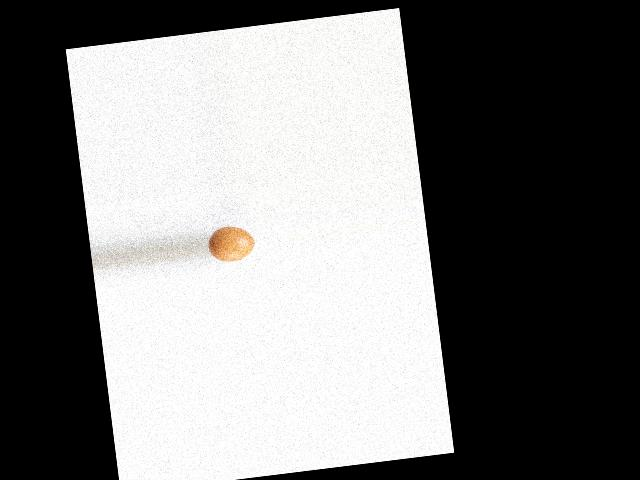egg: (206, 223, 256, 263)
